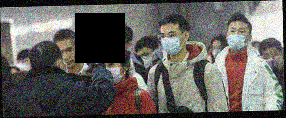with_mask: (159, 29, 186, 55), (102, 56, 125, 86), (227, 25, 251, 50), (261, 49, 283, 71), (136, 50, 158, 70), (53, 54, 69, 76), (16, 58, 33, 73), (212, 42, 224, 59)
without_mask: (59, 44, 80, 69)
